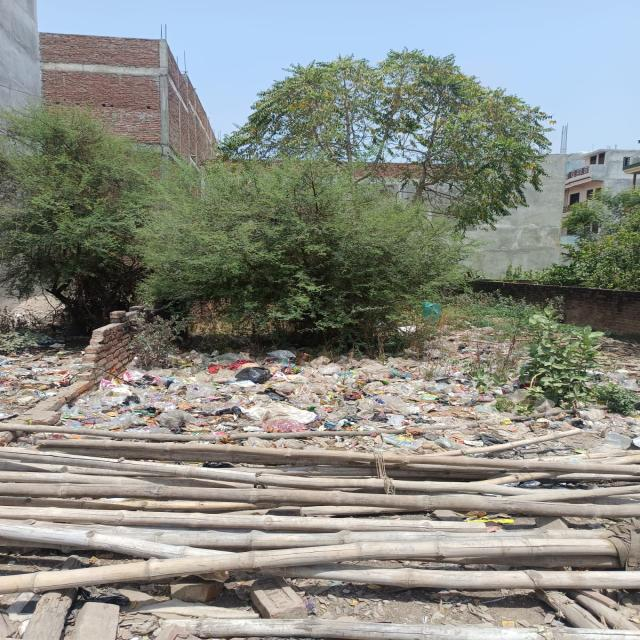Garbage: (110, 352, 527, 452)
